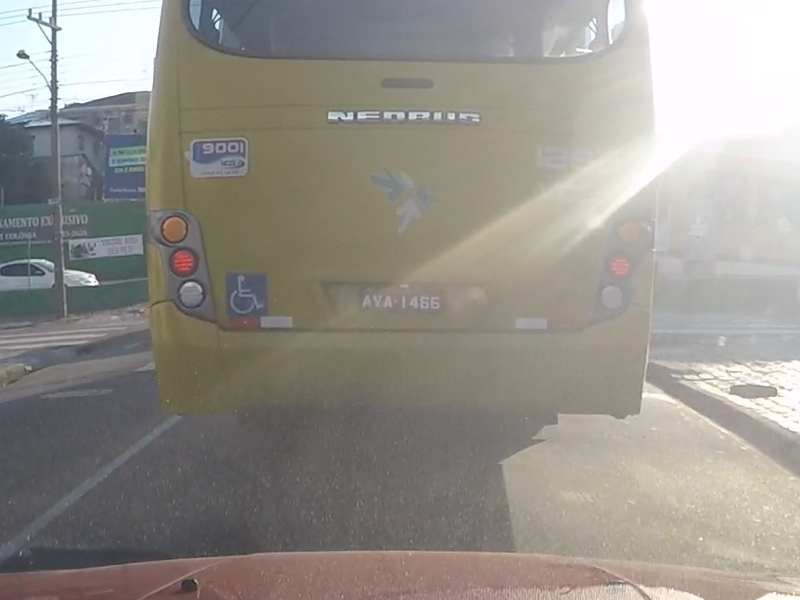placa: (358, 287, 443, 313)
